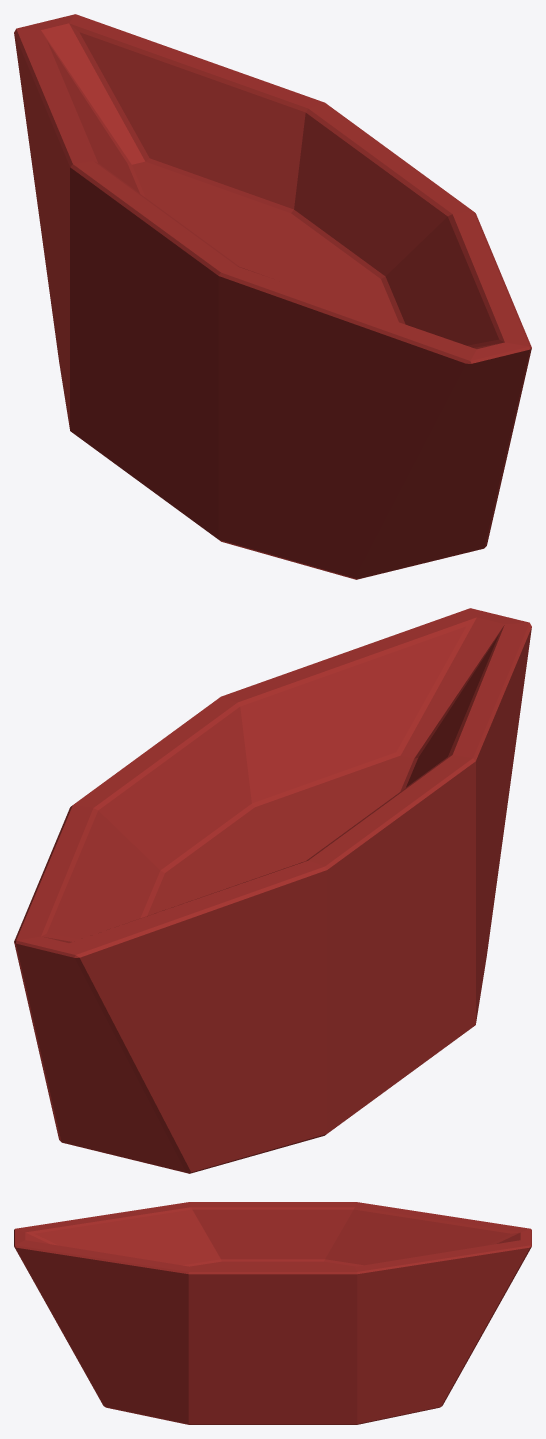
The model's file is barco.fbx.
3 views of the same model, one above another, from view 1: azimuth 30°, elevation 25°; view 2: azimuth 150°, elevation 25°; view 3: azimuth 270°, elevation 25° (orthographic). The views are drawn at different scales.
Visible parts, largest first — view 1: Cube; view 2: Cube; view 3: Cube.
Boxes of the visible parts, x1,y1,x2,y2 form: Cube: (14,14,531,579); Cube: (14,608,531,1173); Cube: (14,1202,531,1424).
Bounding box in the file's own units: 100 × 100 × 307.
